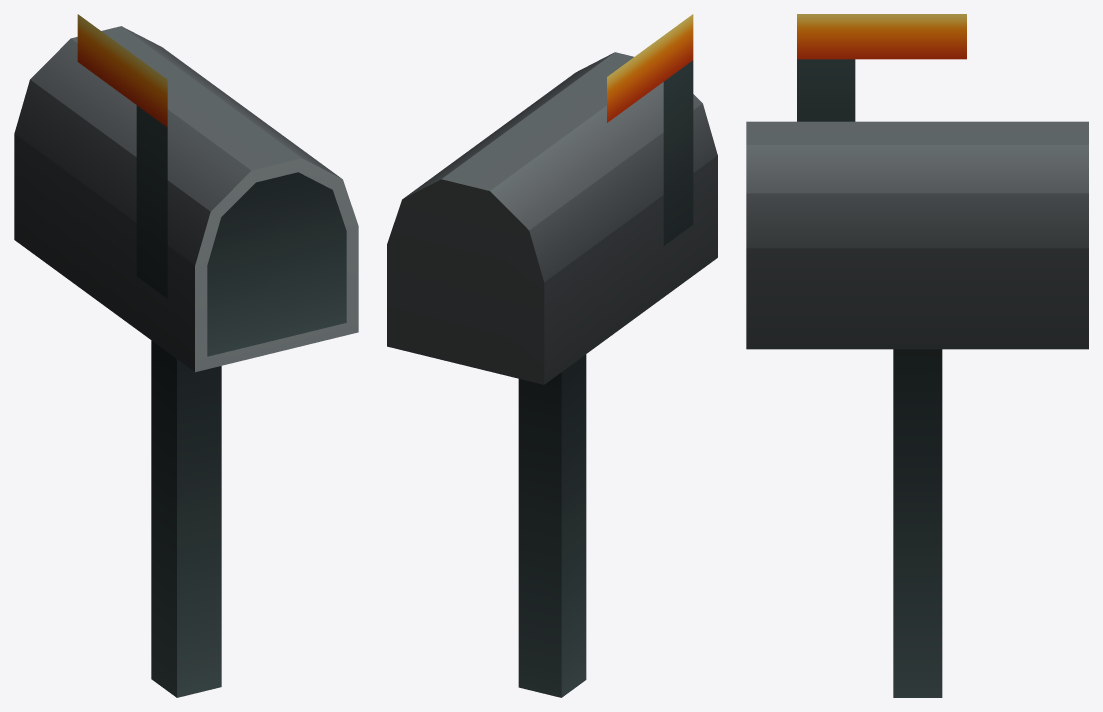
The model's file is Mailbox_1A.fbx.
3 views of the same model, side by side, from view 1: azimuth 30°, elevation 25°; view 2: azimuth 150°, elevation 25°; view 3: azimuth 270°, elevation 25° (orthographic). The views are drawn at different scales.
Parts seen in each view (by area): view 1: Mailbox_1A; view 2: Mailbox_1A; view 3: Mailbox_1A.
Part boxes in pixels (x1=…): Mailbox_1A: x1=14, y1=14, x2=358, y2=697; Mailbox_1A: x1=387, y1=14, x2=717, y2=697; Mailbox_1A: x1=746, y1=14, x2=1088, y2=697.
Size of the model in its own units: 52.12 by 203 by 99.22.
